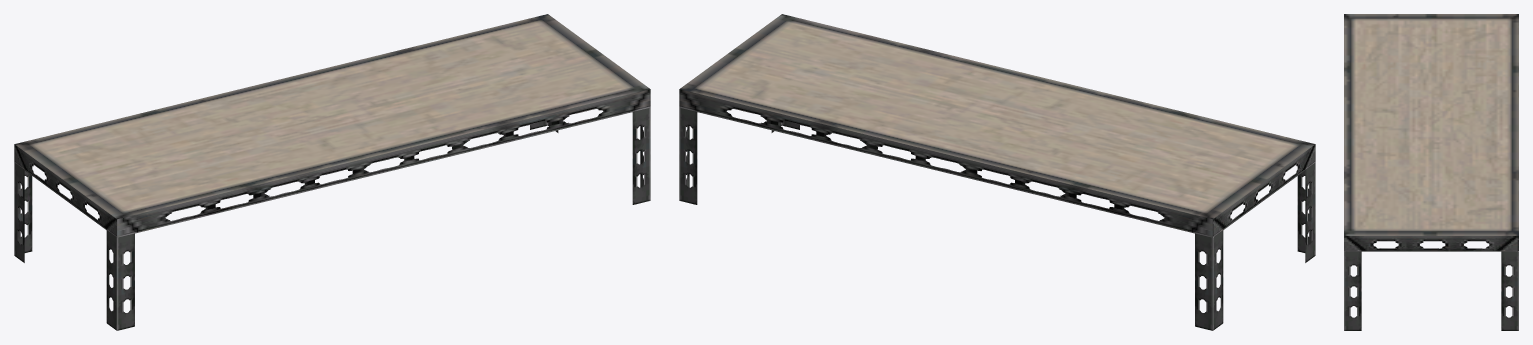
Rendered from StorageRack.glb.
3 renders of one model, left to right at view 1: azimuth 30°, elevation 25°; view 2: azimuth 150°, elevation 25°; view 3: azimuth 270°, elevation 25°, orthographic. The views are drawn at different scales.
Visible parts, largest first — view 1: STORAGERACK; view 2: STORAGERACK; view 3: STORAGERACK.
Boxes of the visible parts, x1,y1,x2,y2 form: STORAGERACK: (14,14,650,330); STORAGERACK: (679,14,1315,330); STORAGERACK: (1344,14,1518,330).
Bounding box in the file's own units: 3 × 0.6 × 1.
Materials: 2 (2 with a texture image).
